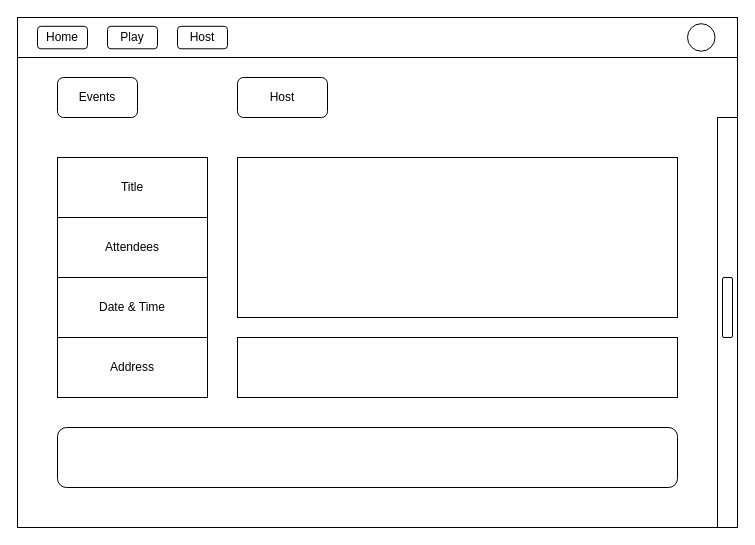
The diagram is 755 pixels wide and 545 high, and some of its shapes have lost their labels. The box of each missing label's shape, as (x1, y1, x2, y2) in pixels:
Attend Button: (56, 426, 678, 488)
Description: (236, 336, 678, 398)
Image: (236, 156, 678, 318)
login: (686, 23, 715, 51)
